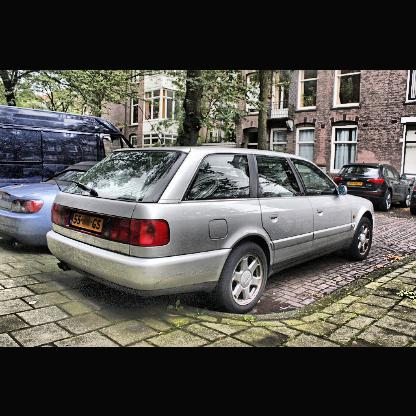Audi 100 Wagon 1994: (50, 145, 375, 315)
